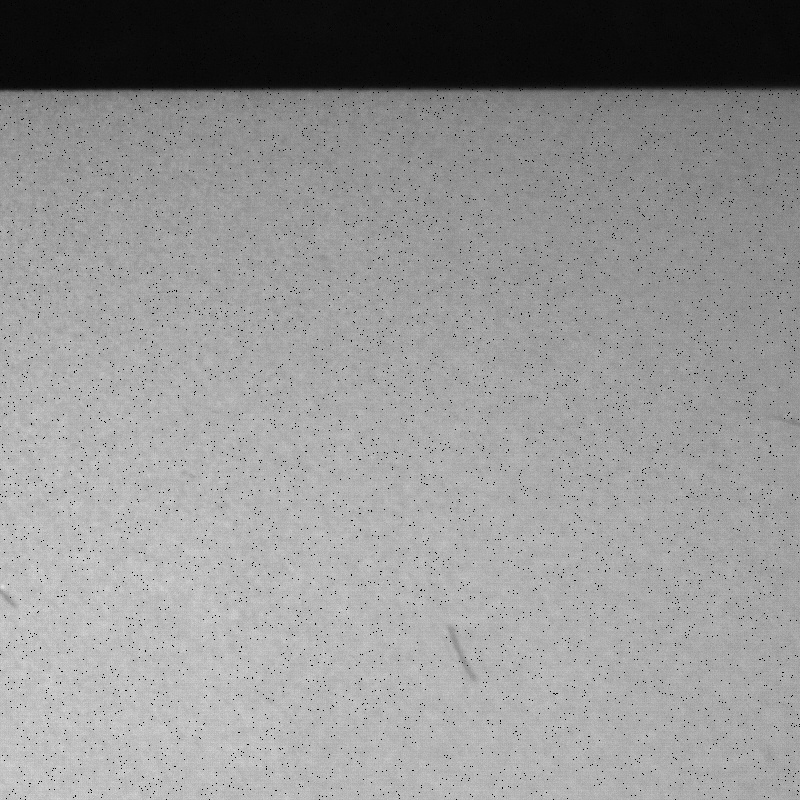defect: (446, 620, 482, 685), (1, 584, 20, 609)
